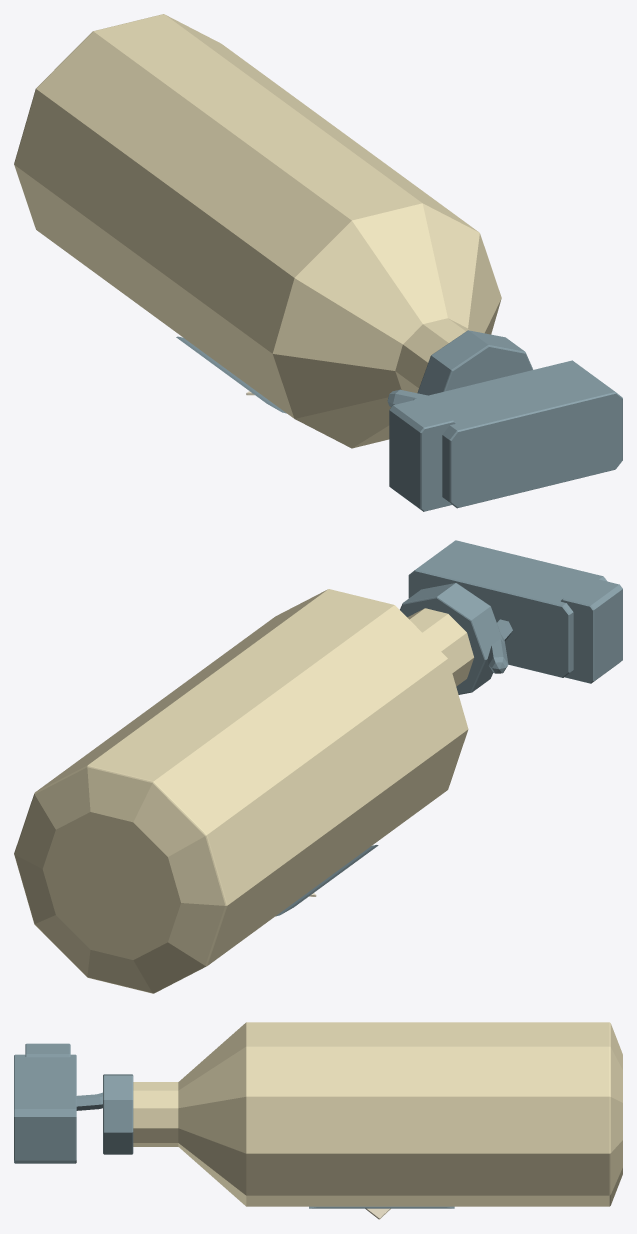
The model's file is cleaning_spray.glb.
The picture shows the model from 3 angles, top to bottom: view 1: azimuth 30°, elevation 25°; view 2: azimuth 150°, elevation 25°; view 3: azimuth 270°, elevation 25°; orthographic projection. The views are drawn at different scales.
Parts seen in each view (by area): view 1: cleaning_spray; view 2: cleaning_spray; view 3: cleaning_spray.
Boxes of the visible parts, x1,y1,x2,y2 form: cleaning_spray: (14,14,622,511); cleaning_spray: (14,540,622,993); cleaning_spray: (14,1022,622,1219).
Size of the model in its own units: 0.077 by 0.0745 by 0.2425.
